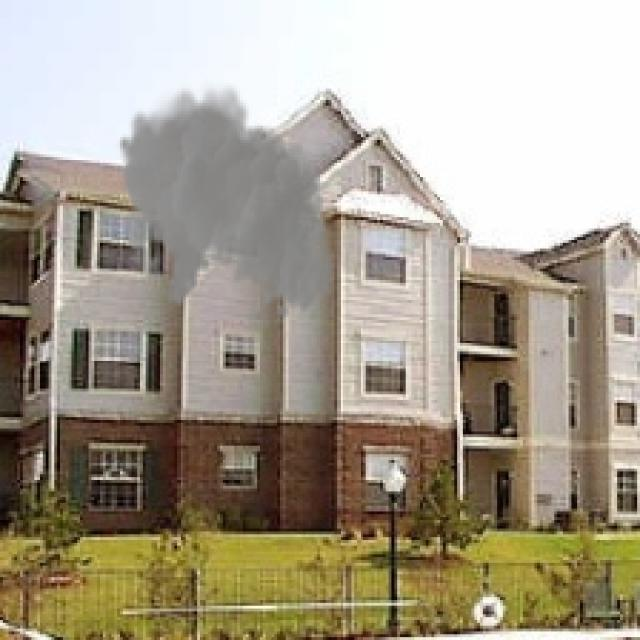Smoke: (117, 77, 334, 320)
